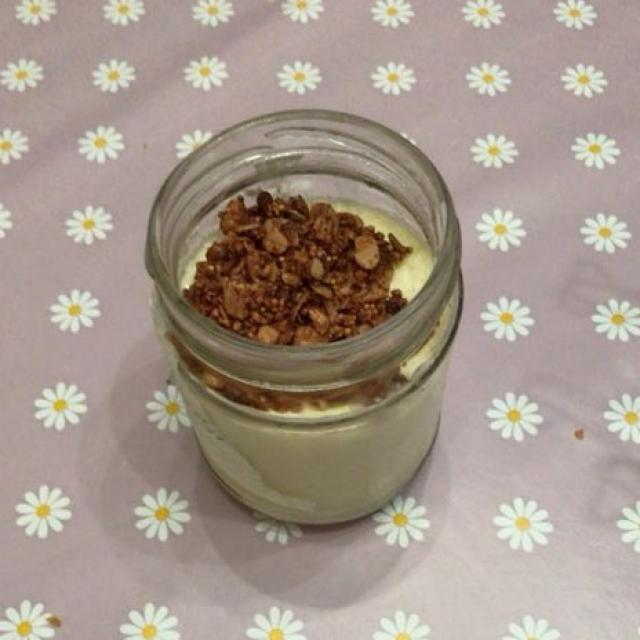crunch-muesli: (170, 170, 415, 418)
yogurt: (170, 189, 449, 515)
